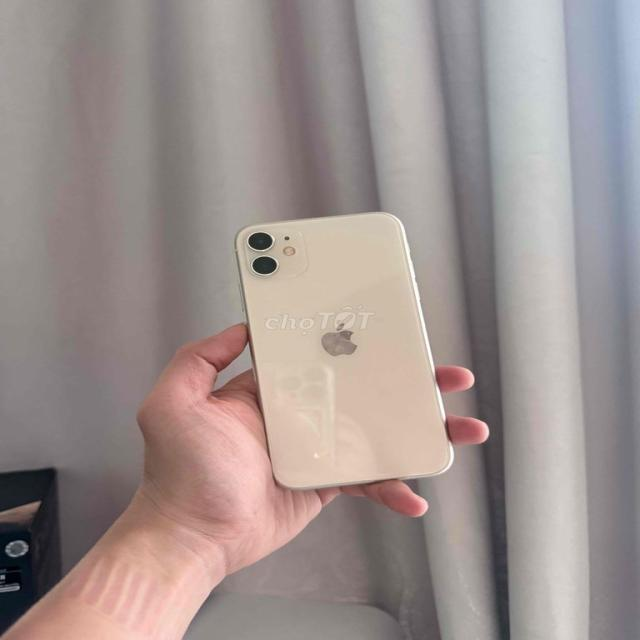gen_11: (232, 209, 460, 497)
